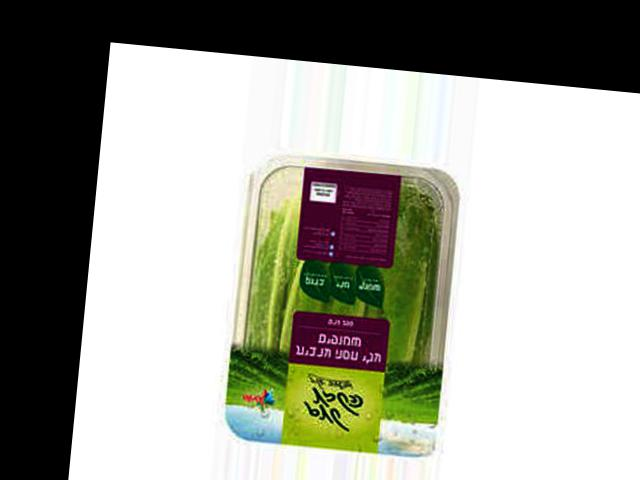lettuce: (386, 148, 514, 383)
